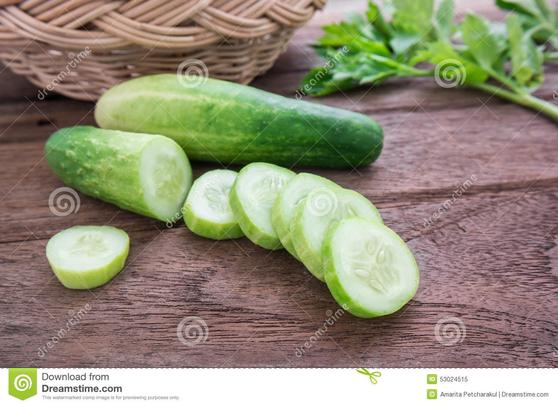cucumber: (100, 66, 380, 173)
